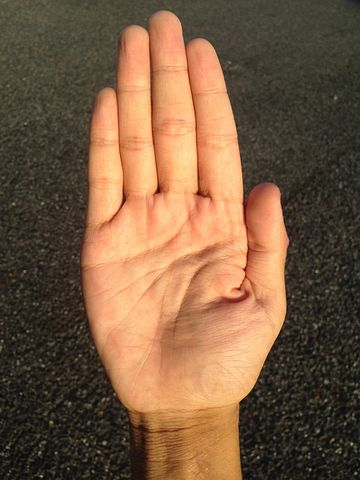palmhand: (80, 10, 287, 407)
